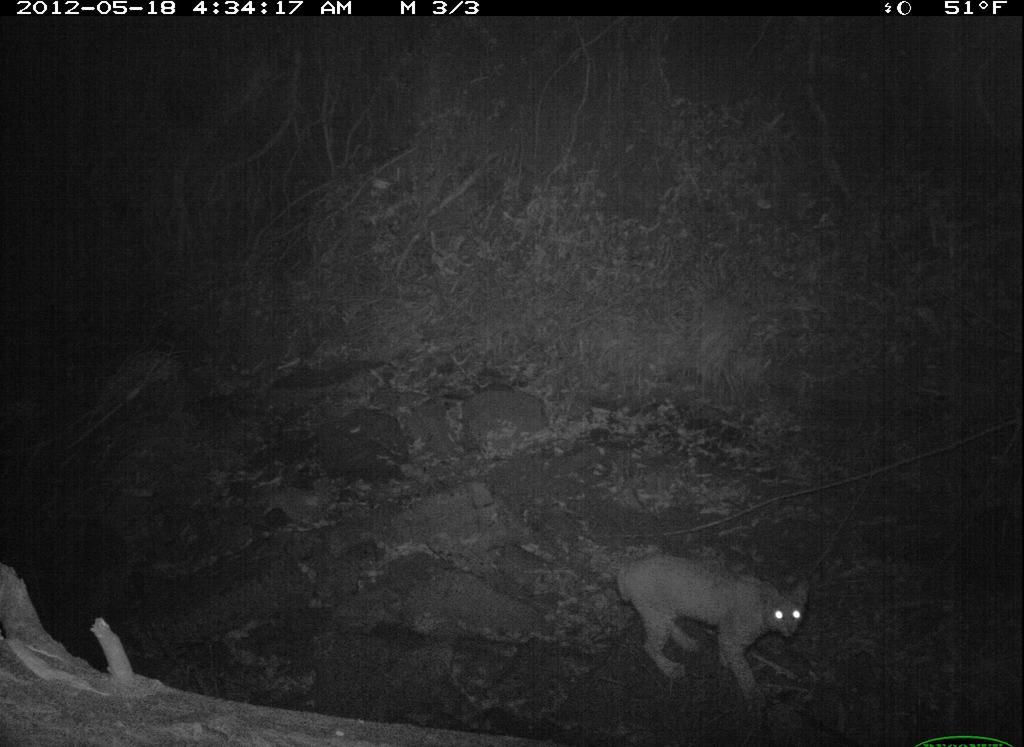bobcat: (599, 541, 829, 695)
